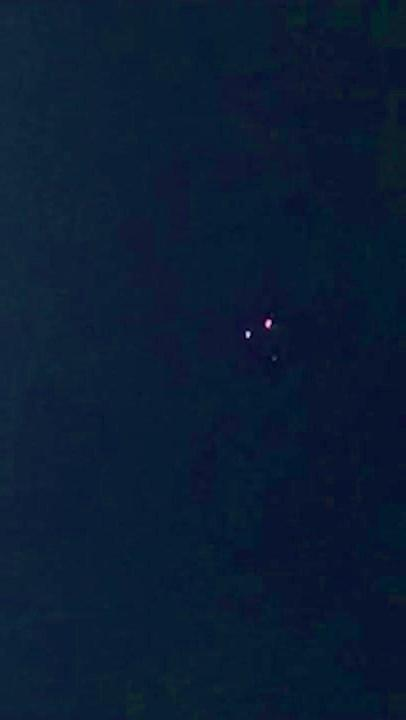Plane: (230, 307, 286, 345)
